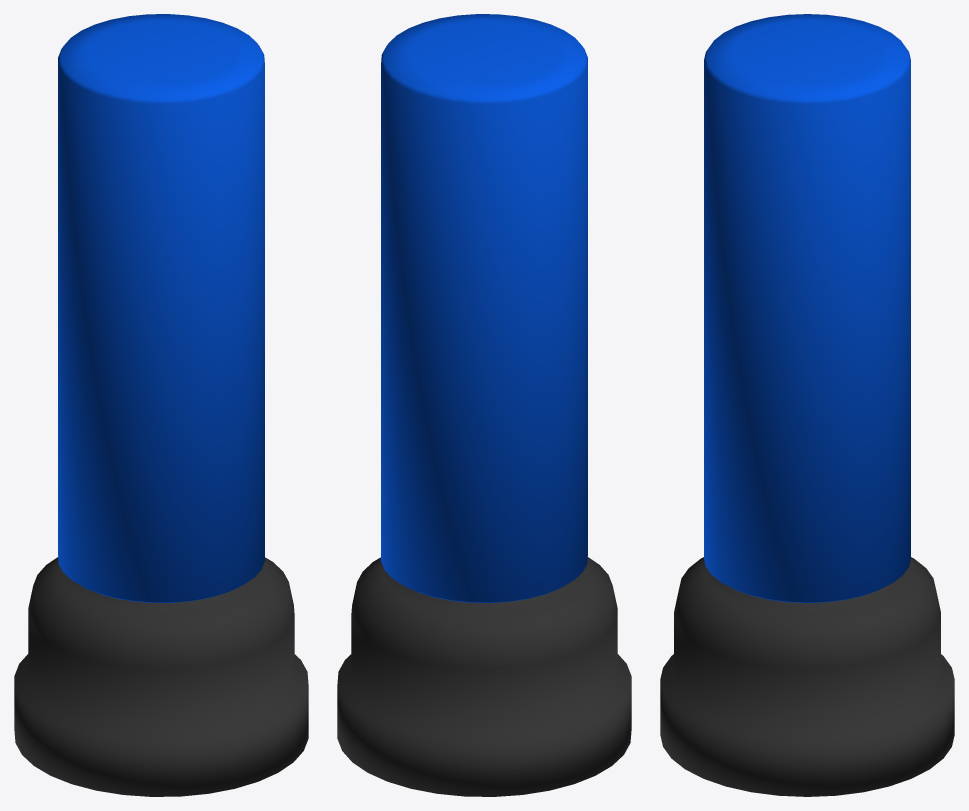
Rendered from Punching_Bag_2.fbx.
The picture shows the model from 3 angles, left to right: view 1: azimuth 30°, elevation 25°; view 2: azimuth 150°, elevation 25°; view 3: azimuth 270°, elevation 25°; orthographic projection.
Visible parts, largest first — view 1: Punching Bag 1; view 2: Punching Bag 1; view 3: Punching Bag 1.
Boxes of the visible parts, x1,y1,x2,y2 form: Punching Bag 1: [14, 14, 308, 796]; Punching Bag 1: [337, 14, 631, 796]; Punching Bag 1: [660, 14, 954, 796].
Bounding box in the file's own units: 131 × 333 × 131.
